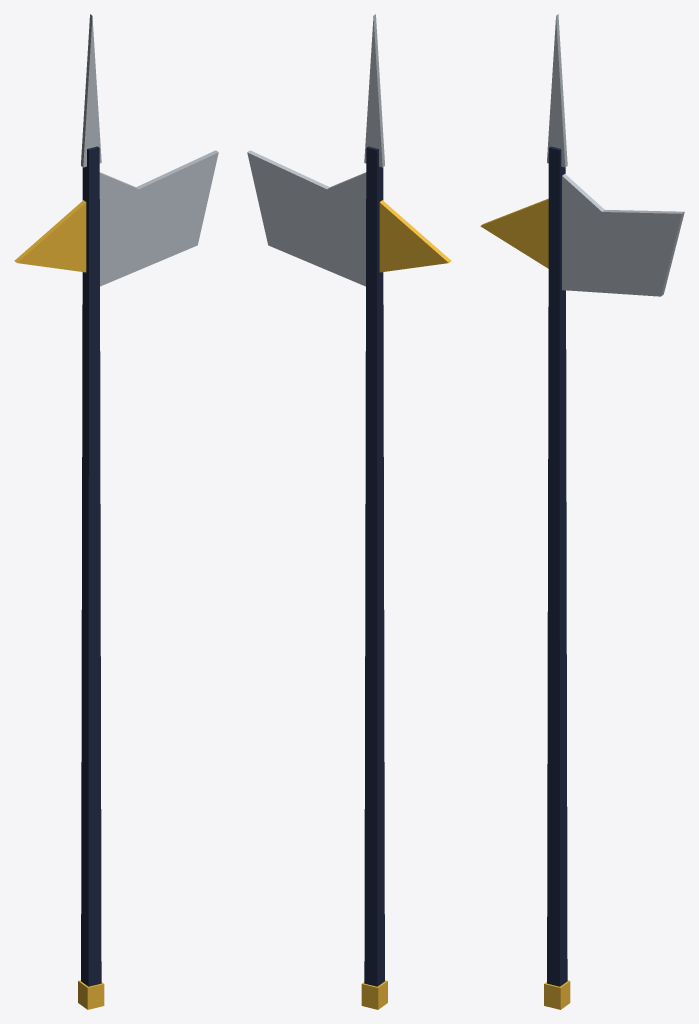
Rendered from SM_Prop_ArmadaHalberd_LQ.glb.
3 renders of one model, left to right at view 1: azimuth 30°, elevation 25°; view 2: azimuth 150°, elevation 25°; view 3: azimuth 330°, elevation 25°, orthographic.
Visible parts, largest first — view 1: SM_Prop_ArmadaHalberd_LQ; view 2: SM_Prop_ArmadaHalberd_LQ; view 3: SM_Prop_ArmadaHalberd_LQ.
Part boxes in pixels (x1,y1,x2,y2): SM_Prop_ArmadaHalberd_LQ: (14, 14, 218, 1009); SM_Prop_ArmadaHalberd_LQ: (247, 14, 451, 1009); SM_Prop_ArmadaHalberd_LQ: (480, 14, 684, 1009).
Bounding box in the file's own units: 0.48 × 2.25 × 0.0396.
1 material, 1 textured.
